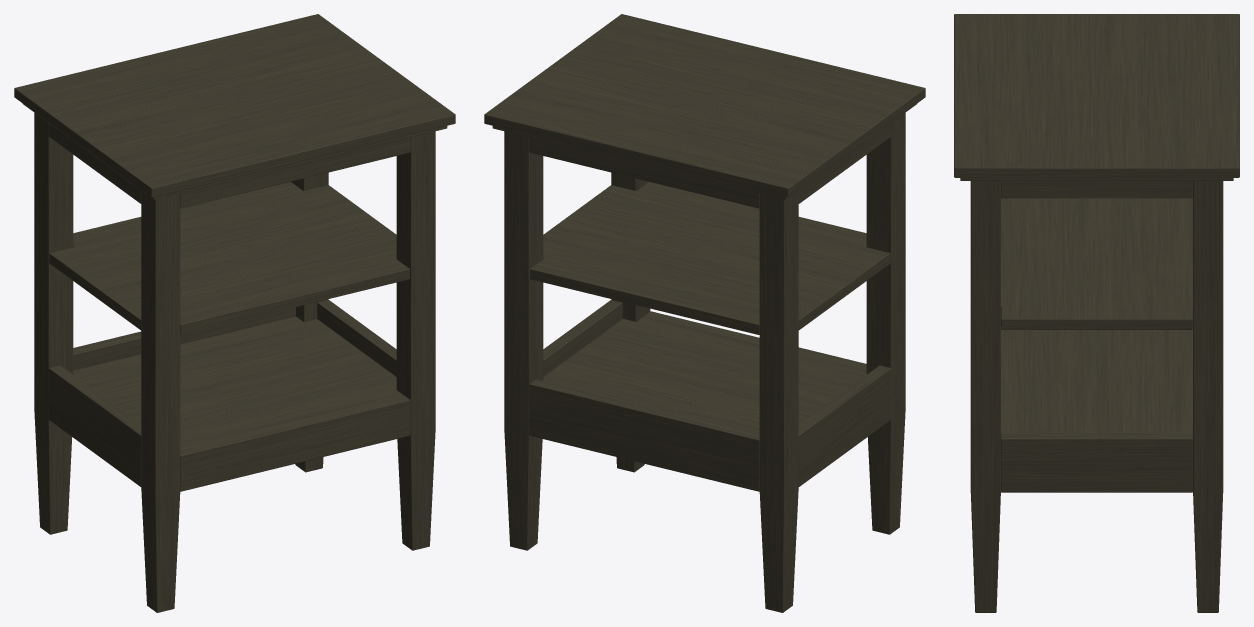
Rendered from dark_brown_table.glb.
3 views of the same model, side by side, from view 1: azimuth 30°, elevation 25°; view 2: azimuth 150°, elevation 25°; view 3: azimuth 270°, elevation 25° (orthographic). The views are drawn at different scales.
Visible parts, largest first — view 1: Tabletop_46x36cm, Middle_notched_shelf, Lower_notched_shelf, Front_left_tapered_leg, Front_right_tapered_leg, Rear_left_tapered_leg, Lower_front_rail_clearance_17cm, Left_lower_side_rail_and_shallow_rim, Front_upper_apron, Lower_rear_rail_and_shallow_rim, Right_lower_side_rail_and_shallow_rim, Left_upper_apron (+2 smaller); view 2: Tabletop_46x36cm, Middle_notched_shelf, Lower_notched_shelf, Rear_left_tapered_leg, Rear_right_tapered_leg, Lower_rear_rail_and_shallow_rim, Front_left_tapered_leg, Left_lower_side_rail_and_shallow_rim, Rear_upper_apron, Right_lower_side_rail_and_shallow_rim, Lower_front_rail_clearance_17cm, Left_upper_apron (+2 smaller); view 3: Tabletop_46x36cm, Middle_notched_shelf, Lower_notched_shelf, Front_right_tapered_leg, Rear_right_tapered_leg, Right_lower_side_rail_and_shallow_rim, Right_upper_apron, Thin_recessed_under_top_lip.
Part boxes in pixels (bbox=[...]): Tabletop_46x36cm: bbox=[14, 14, 455, 197]; Middle_notched_shelf: bbox=[49, 182, 409, 334]; Lower_notched_shelf: bbox=[73, 316, 402, 449]; Front_left_tapered_leg: bbox=[141, 191, 180, 612]; Front_right_tapered_leg: bbox=[396, 131, 435, 550]; Rear_left_tapered_leg: bbox=[34, 113, 73, 534]; Lower_front_rail_clearance_17cm: bbox=[180, 395, 410, 491]; Left_lower_side_rail_and_shallow_rim: bbox=[48, 365, 141, 486]; Front_upper_apron: bbox=[180, 137, 410, 208]; Lower_rear_rail_and_shallow_rim: bbox=[73, 307, 295, 370]; Right_lower_side_rail_and_shallow_rim: bbox=[317, 300, 396, 376]; Left_upper_apron: bbox=[48, 123, 141, 203]; Tabletop_46x36cm: bbox=[484, 14, 925, 197]; Middle_notched_shelf: bbox=[530, 182, 890, 334]; Lower_notched_shelf: bbox=[543, 316, 866, 433]; Rear_left_tapered_leg: bbox=[759, 191, 798, 612]; Rear_right_tapered_leg: bbox=[504, 131, 543, 550]; Lower_rear_rail_and_shallow_rim: bbox=[529, 379, 759, 491]; Front_left_tapered_leg: bbox=[866, 113, 905, 534]; Left_lower_side_rail_and_shallow_rim: bbox=[798, 365, 891, 486]; Rear_upper_apron: bbox=[529, 137, 759, 208]; Right_lower_side_rail_and_shallow_rim: bbox=[543, 300, 622, 376]; Lower_front_rail_clearance_17cm: bbox=[644, 311, 866, 370]; Left_upper_apron: bbox=[798, 123, 891, 203]; Tabletop_46x36cm: bbox=[954, 14, 1239, 177]; Middle_notched_shelf: bbox=[1001, 198, 1192, 329]; Lower_notched_shelf: bbox=[1001, 326, 1192, 432]; Front_right_tapered_leg: bbox=[970, 181, 1000, 612]; Rear_right_tapered_leg: bbox=[1193, 181, 1223, 612]; Right_lower_side_rail_and_shallow_rim: bbox=[1001, 433, 1192, 492]; Right_upper_apron: bbox=[1001, 181, 1192, 198]; Thin_recessed_under_top_lip: bbox=[960, 178, 1233, 180].
Size of the model in its own units: 0.46 by 0.63 by 0.36.
2 materials, 2 textured.
